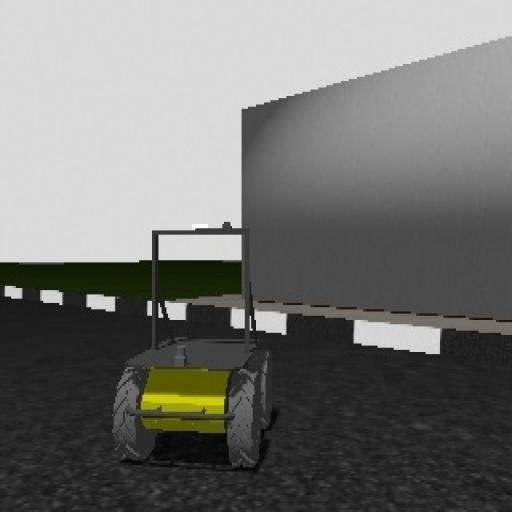huskya200: (104, 206, 300, 465)
